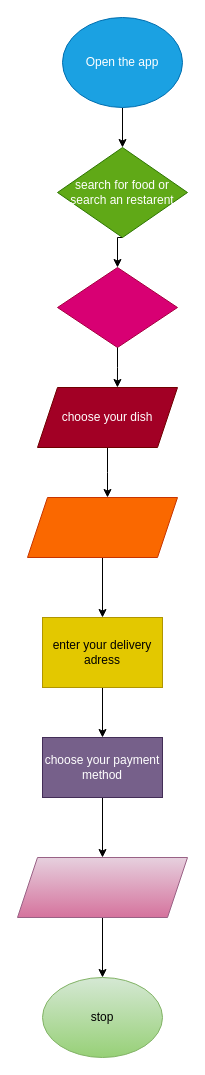
The diagram is 205 pixels wide and 1075 high, and some of its shapes have lost their labels. The box of each missing label's shape, as (x1, y1, x2, y2) in pixels:
place order: (16, 856, 188, 918)
review your cart: (26, 496, 178, 558)
select a restarant: (56, 266, 178, 348)
